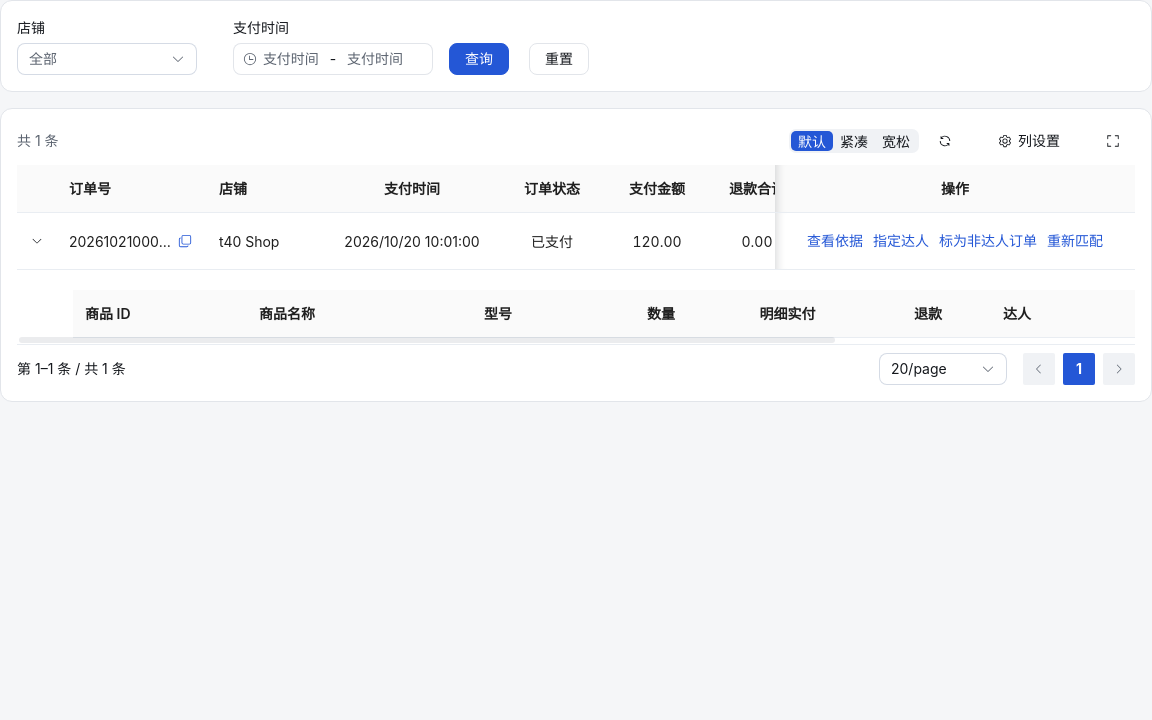
matching pool page (task 40) › hands over from the evidence drawer to the assign-creator dialog
Click the button "查看依据". click: (835, 241)
box: 806,229 -> 864,253
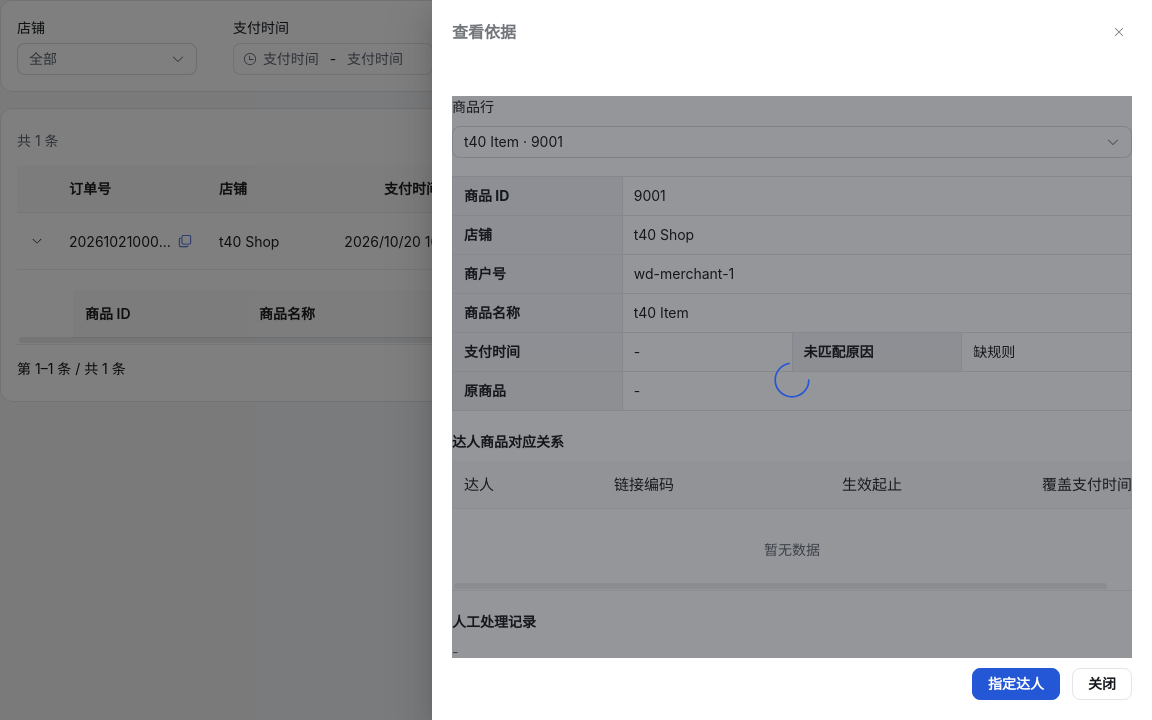
Click the button with test id "evidence-assign". click: (1016, 684)
box: 972,668 -> 1060,700
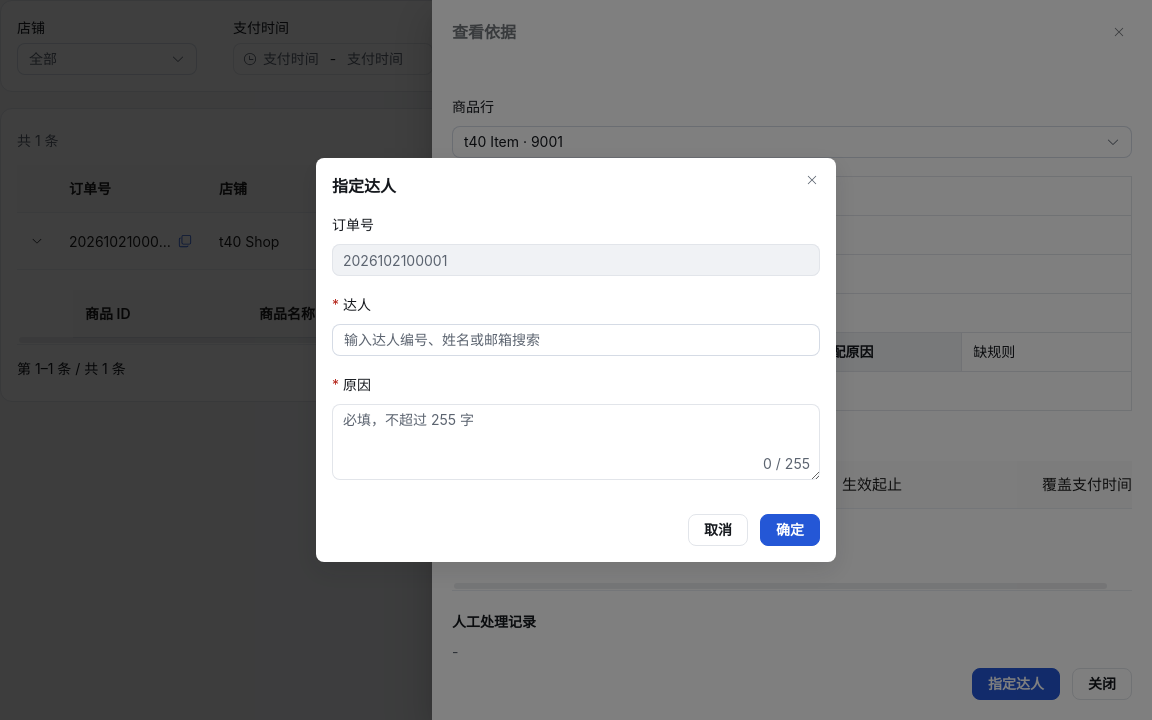
Result: the element showing "指定达人 订单号 达人 输入达人编号、姓名或邮箱搜索 原因 0 / 255 取消 确定" is shown at 316,158 -> 836,562
